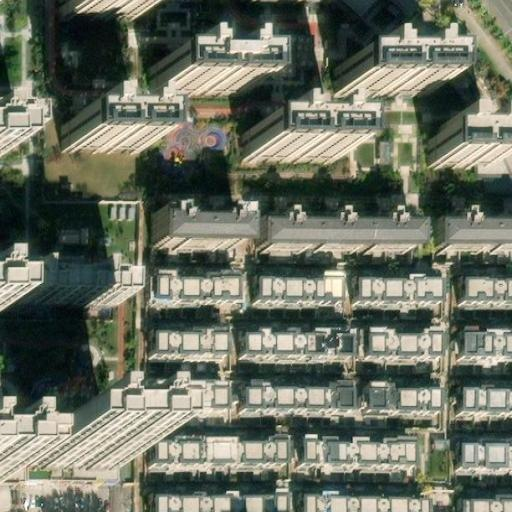building: (256, 211, 419, 250), (340, 50, 436, 92), (157, 48, 254, 89), (0, 270, 117, 303), (252, 114, 342, 156), (298, 441, 412, 474), (149, 438, 283, 466), (65, 107, 145, 149), (33, 431, 124, 467), (155, 210, 246, 245), (241, 382, 347, 412), (239, 329, 347, 358), (431, 212, 512, 250), (147, 268, 237, 302), (427, 127, 493, 168), (253, 272, 337, 303), (151, 493, 280, 512), (146, 382, 224, 411), (350, 275, 437, 301), (361, 330, 437, 359), (148, 327, 223, 356), (363, 384, 434, 414), (451, 390, 512, 420), (451, 446, 511, 476), (298, 498, 421, 512), (458, 329, 512, 359), (457, 280, 512, 304), (67, 0, 153, 13), (457, 499, 512, 512)
